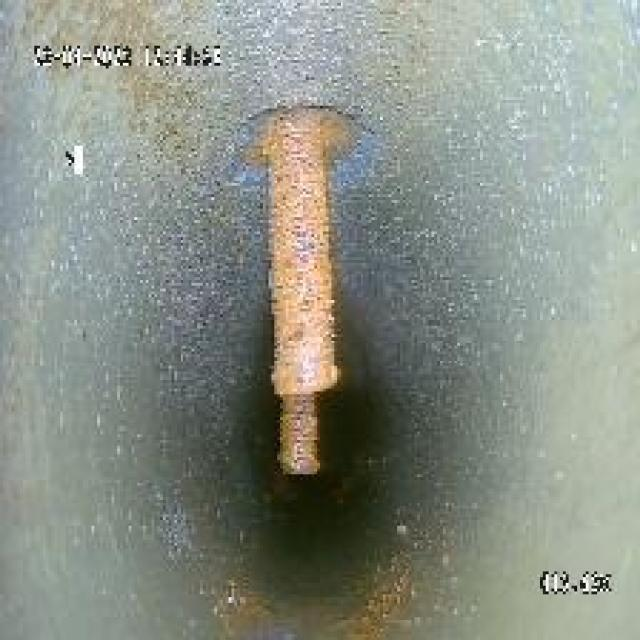ferrule: (237, 86, 343, 488)
